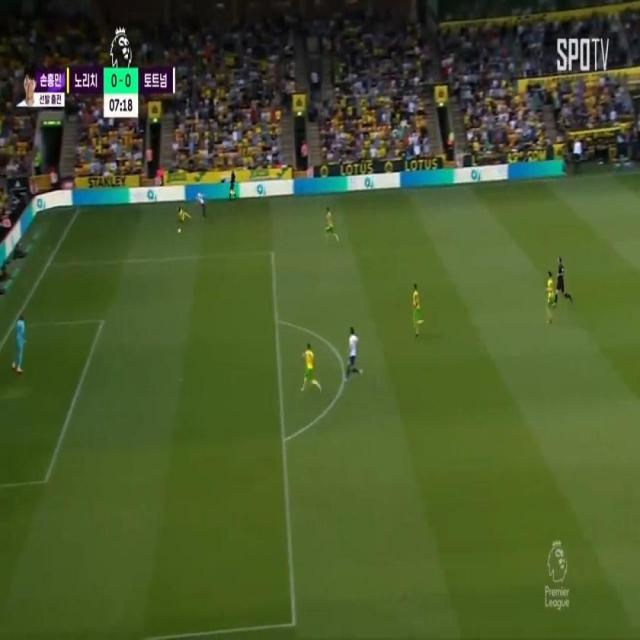ball: (175, 228, 184, 238)
goalkeeper: (8, 308, 36, 385)
player: (342, 326, 366, 384), (411, 277, 425, 339), (544, 267, 558, 322), (303, 338, 317, 393), (193, 189, 214, 218), (326, 203, 338, 245), (178, 203, 192, 230)
referee: (552, 247, 570, 306), (227, 164, 239, 205)
